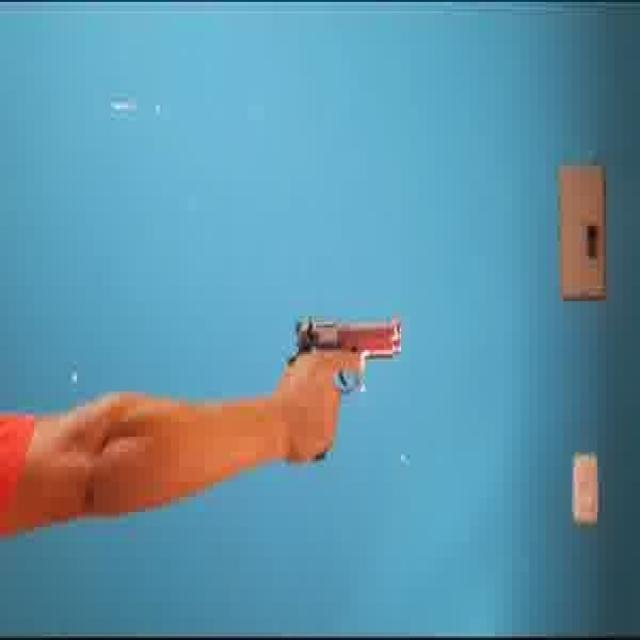weapon: (280, 312, 402, 466)
